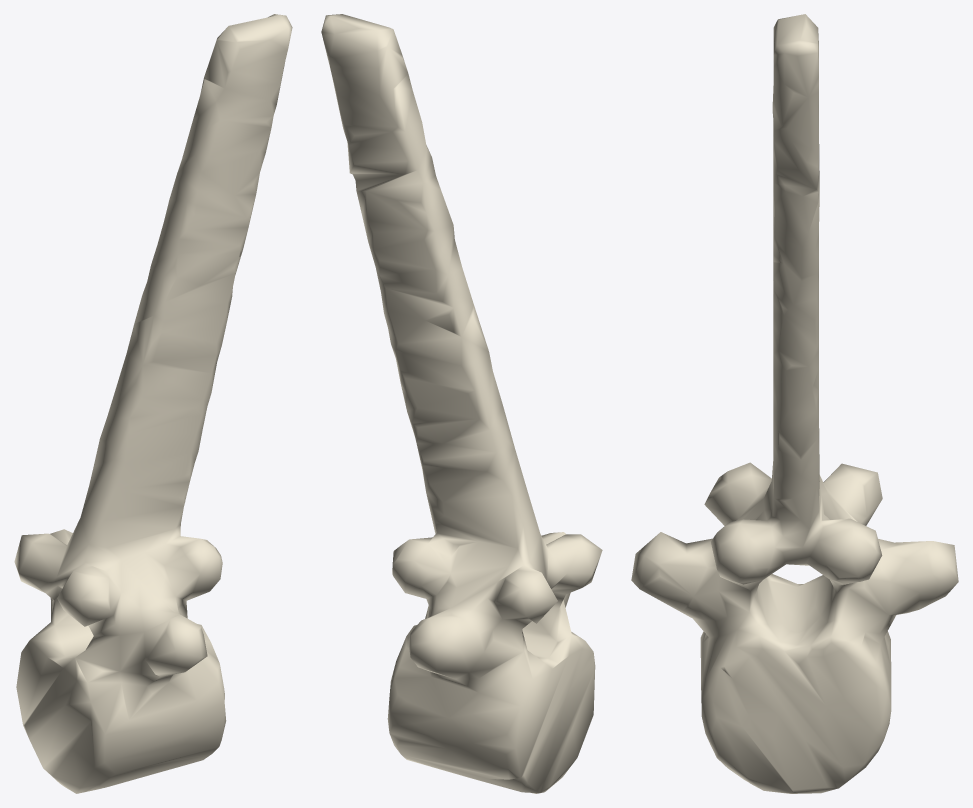
Rendered from thoracic_8.glb.
3 renders of one model, left to right at view 1: azimuth 30°, elevation 25°; view 2: azimuth 150°, elevation 25°; view 3: azimuth 270°, elevation 25°, orthographic. The views are drawn at different scales.
Parts seen in each view (by area): view 1: geometry_0; view 2: geometry_0; view 3: geometry_0.
Part boxes in pixels (x1,y1,x2,y2): geometry_0: (14,14,292,793); geometry_0: (321,14,602,793); geometry_0: (631,14,958,793).
Size of the model in its own units: 0.1998 by 0.5483 by 0.1997.
